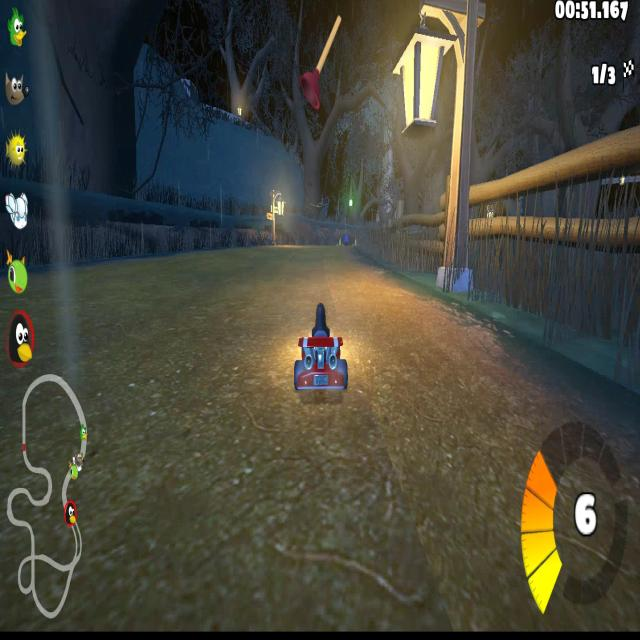player_kart: (290, 298, 350, 406)
track: (82, 273, 208, 520), (210, 240, 355, 284)
